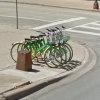Bicycle: (8, 18, 78, 81)
